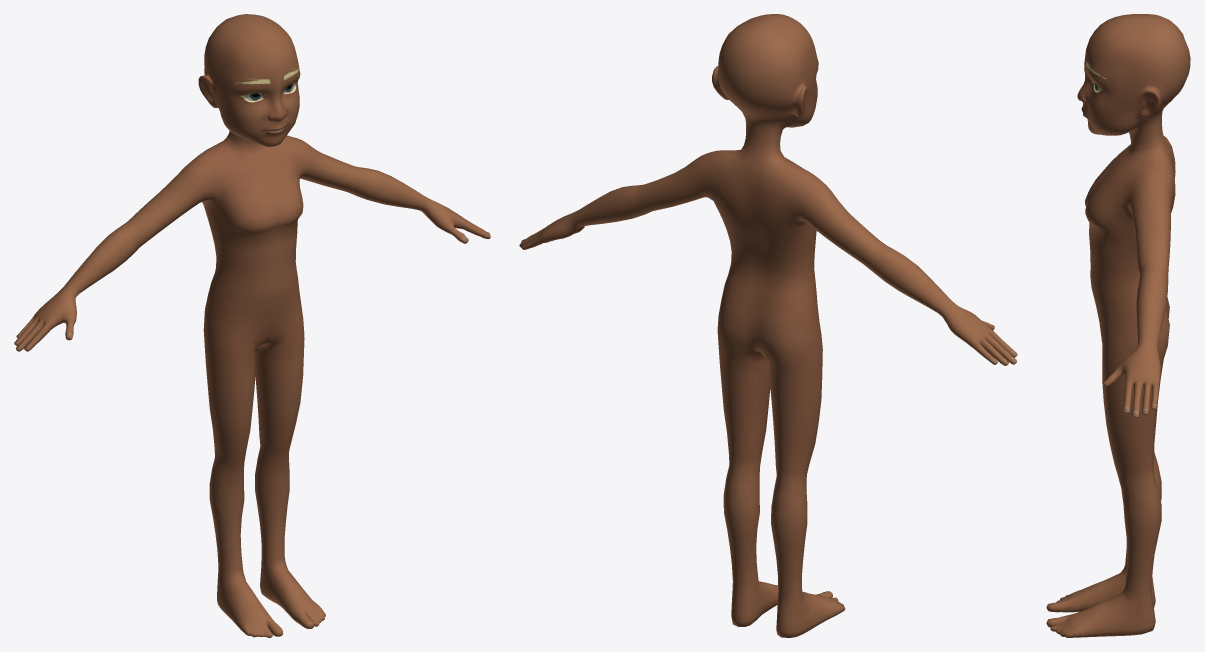
The model's file is frame_0090.glb.
3 renders of one model, left to right at view 1: azimuth 30°, elevation 25°; view 2: azimuth 150°, elevation 25°; view 3: azimuth 270°, elevation 25°, orthographic. The views are drawn at different scales.
Visible parts, largest first — view 1: frame_0090_head_geo; view 2: frame_0090_head_geo; view 3: frame_0090_head_geo.
Boxes of the visible parts, x1,y1,x2,y2 form: frame_0090_head_geo: (14, 14, 490, 637); frame_0090_head_geo: (519, 14, 1017, 637); frame_0090_head_geo: (1046, 14, 1190, 637).
Size of the model in its own units: 1.28 by 1.5 by 0.3253.
3 materials, 3 textured.
